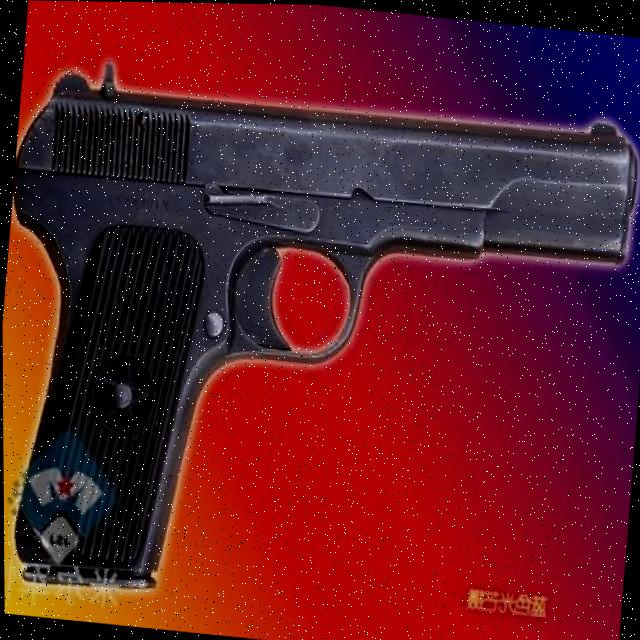pistol: (0, 49, 640, 634)
